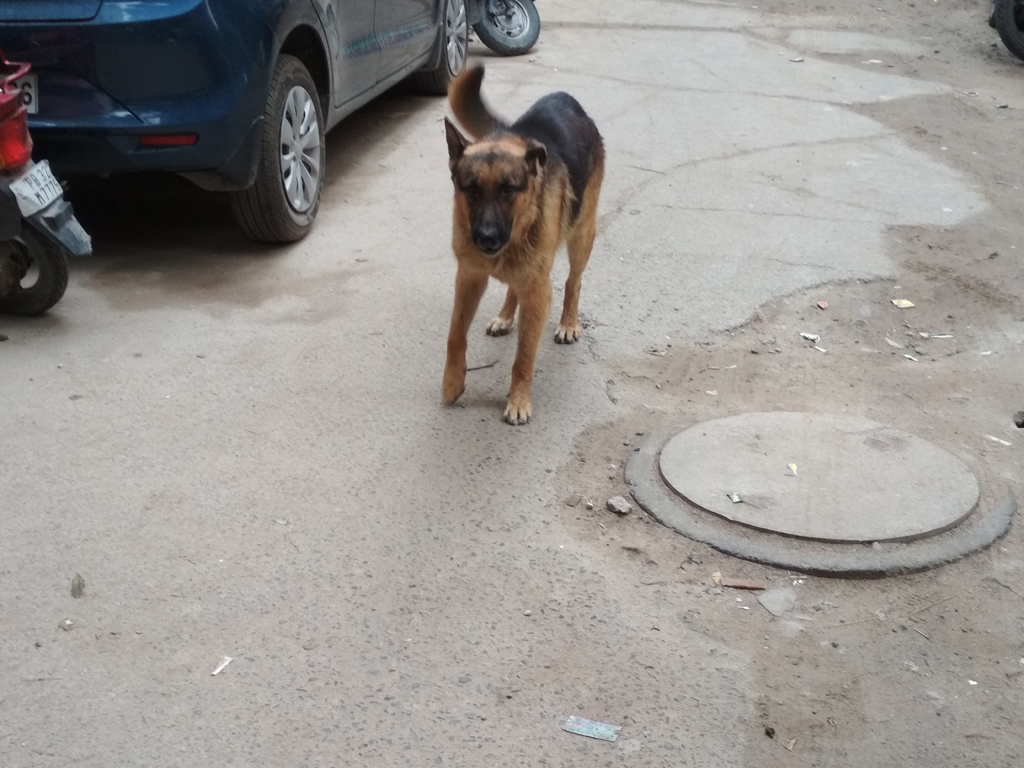dog: (441, 54, 607, 425)
